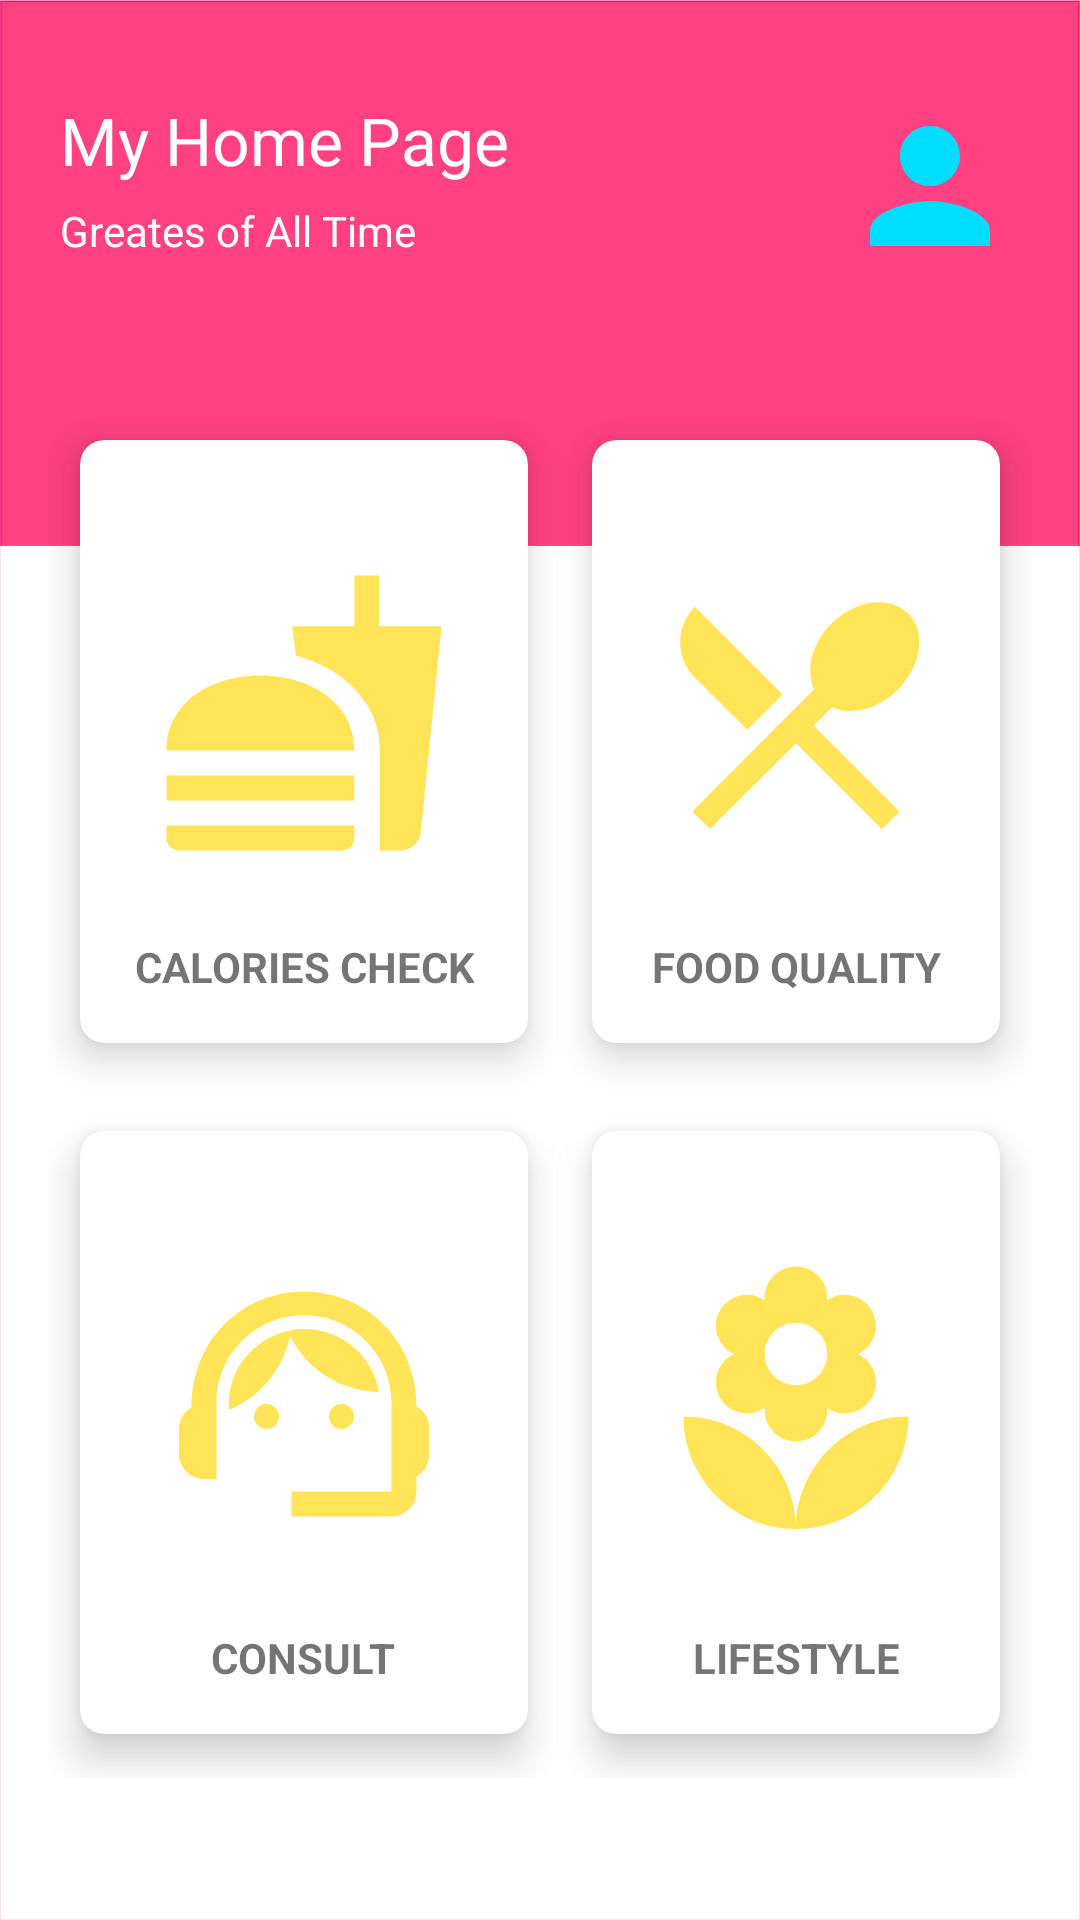

Point at icon controls on the screen. Image size 1080×1920, points as (x=x, y=y).
Photo Profil: (x=930, y=186)
support agent: (x=304, y=1404)
